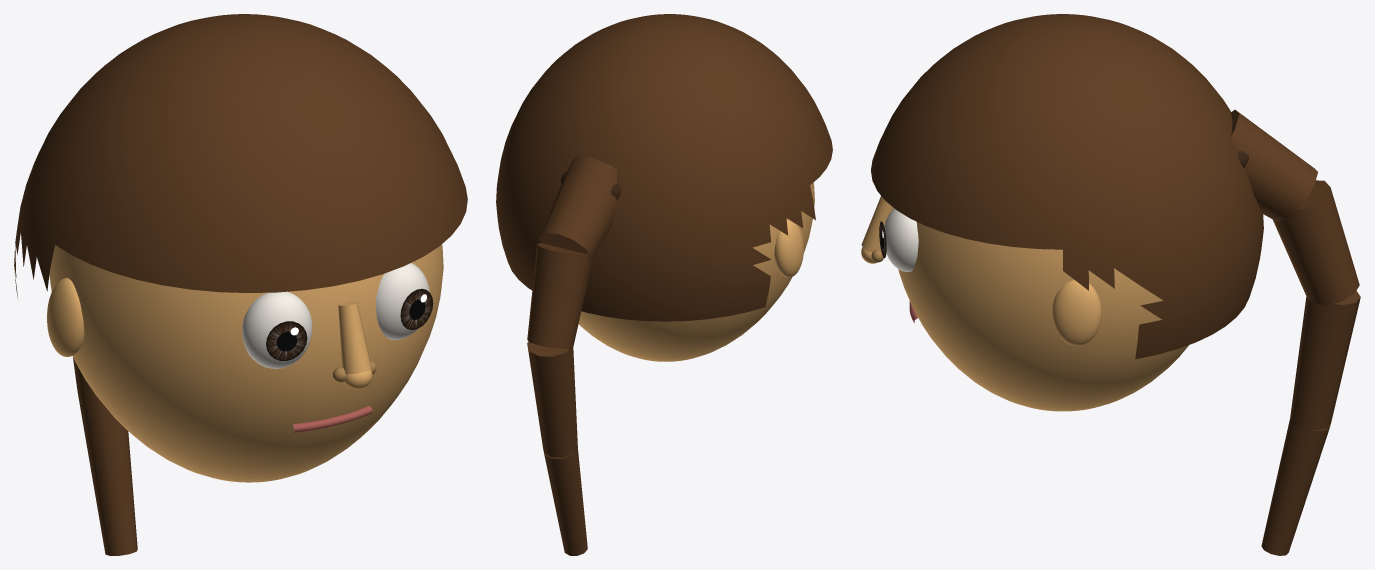
Rendered from homme-09-queue-de-cheval.glb.
3 renders of one model, left to right at view 1: azimuth 30°, elevation 25°; view 2: azimuth 150°, elevation 25°; view 3: azimuth 270°, elevation 25°, orthographic. The views are drawn at different scales.
Bounding box in the file's own units: 0.3304 × 0.4884 × 0.4238.
11 materials, 1 textured.
